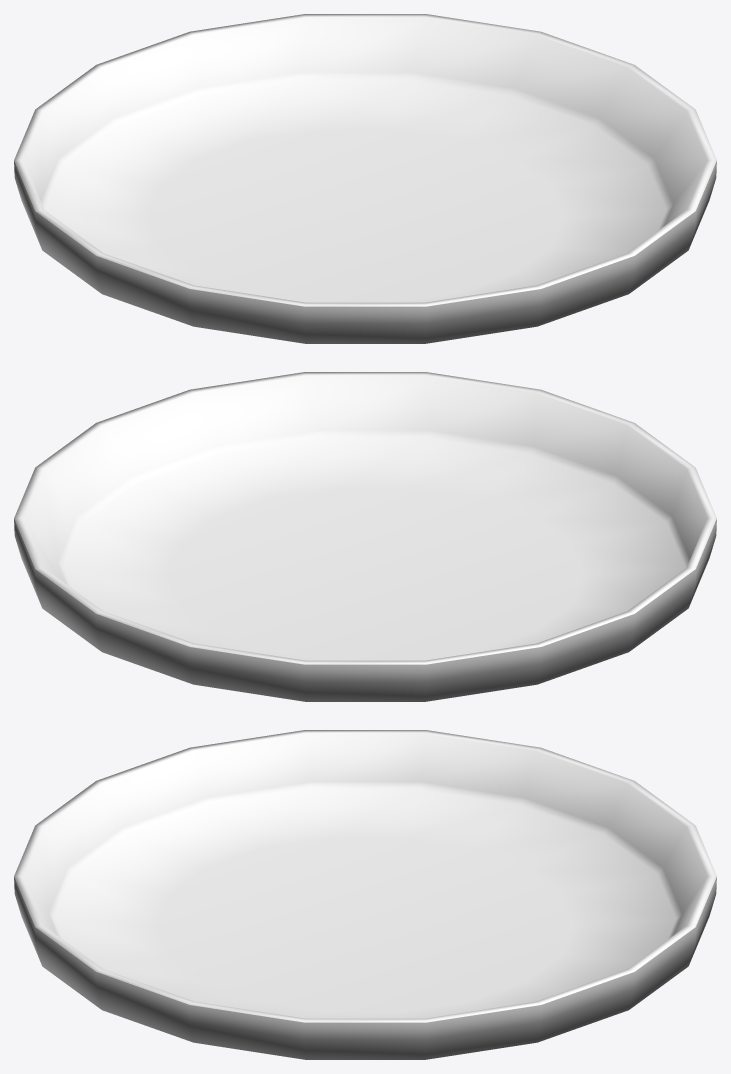
File: Plate.fbx
3 renders of one model, top to bottom at view 1: azimuth 30°, elevation 25°; view 2: azimuth 150°, elevation 25°; view 3: azimuth 270°, elevation 25°, orthographic.
Parts seen in each view (by area): view 1: Prop_Plate_02; view 2: Prop_Plate_02; view 3: Prop_Plate_02.
Part boxes in pixels (x1,y1,x2,y2): Prop_Plate_02: (14,14,716,343); Prop_Plate_02: (14,372,716,701); Prop_Plate_02: (14,730,716,1059).
Size of the model in its own units: 39.79 by 4.27 by 40.4.
Materials: 1 (1 with a texture image).
